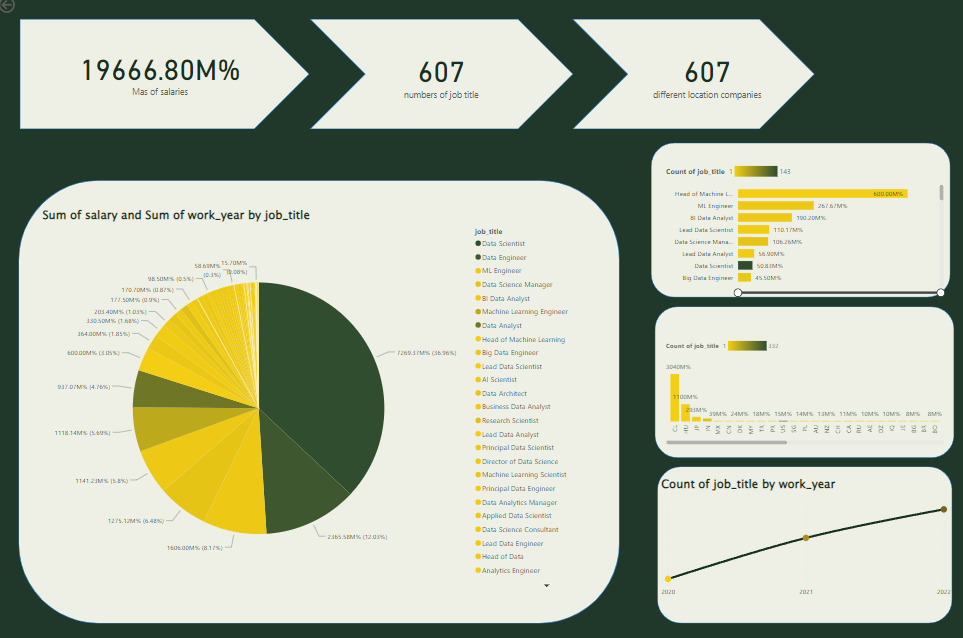

This screenshot's page, from the dashboard's own definition file:
{"tool":"powerbi","page":{"name":"Page 1","canvas":[1800,1200],"ordinal":0},"visuals":[{"type":"shape","box":[582.9,46.3,490.2,204.9],"z":0},{"type":"shape","box":[43.9,46.3,539,204.9],"z":1000},{"type":"shape","box":[42.9,346.9,1118.4,824.5],"z":2000},{"type":"shape","box":[1224.5,581.6,557.1,281.6],"z":3000},{"type":"shape","box":[1230.6,879.6,549,291.8],"z":4000},{"type":"shape","box":[1218.4,277.6,557.1,287.8],"z":5000},{"type":"clusteredBarChart","fields":{"Category":["ds_salaries.job_title"],"Y":["Avg(ds_salaries.salary)"]},"box":[1240.8,279.6,526.5,287.8],"z":6000},{"type":"lineChart","fields":{"Category":["ds_salaries.work_year"],"Y":["CountNonNull(ds_salaries.job_title)"]},"box":[1232.7,895.9,549,234.7],"z":7000},{"type":"columnChart","fields":{"Category":["ds_salaries.employee_residence"],"Y":["Avg(ds_salaries.salary)"]},"box":[1240.8,604.1,526.5,238.8],"z":8000},{"type":"pieChart","fields":{"Category":["ds_salaries.job_title"],"Y":["Sum(ds_salaries.salary)"]},"box":[81.6,395.9,1079.6,718.4],"z":9000},{"type":"card","fields":{"Values":["Sum(ds_salaries.salary)"]},"box":[43.9,46.3,522,195.1],"z":10000},{"type":"card","fields":{"Values":["CountNonNull(ds_salaries.job_title)"]},"box":[290.2,46.3,1075.6,204.9],"z":11000},{"type":"shape","box":[1073.2,46.3,451.2,204.9],"z":12000},{"type":"actionButton","box":[0,0,100,40],"z":13001},{"type":"card","fields":{"Values":["CountNonNull(ds_salaries.company_location)"]},"box":[1197.6,46.3,251.2,204.9],"z":13002}]}

Visuals, with their boxes in screenshot pixels (x1, y1, x2, y2), scaled from the page's 1800x1200 canvas onto the 963x638 screenshot:
shape: 312, 25, 574, 134
shape: 23, 25, 312, 134
shape: 23, 184, 621, 623
shape: 655, 309, 953, 459
shape: 658, 468, 952, 623
shape: 652, 148, 950, 301
clusteredBarChart - ds_salaries.job_title x Avg(ds_salaries.salary): 664, 149, 946, 302
lineChart - ds_salaries.work_year x CountNonNull(ds_salaries.job_title): 659, 476, 953, 601
columnChart - ds_salaries.employee_residence x Avg(ds_salaries.salary): 664, 321, 946, 448
pieChart - ds_salaries.job_title x Sum(ds_salaries.salary): 44, 210, 621, 592
card - Sum(ds_salaries.salary): 23, 25, 303, 128
card - CountNonNull(ds_salaries.job_title): 155, 25, 731, 134
shape: 574, 25, 816, 134
actionButton: 0, 0, 54, 21
card - CountNonNull(ds_salaries.company_location): 641, 25, 775, 134
